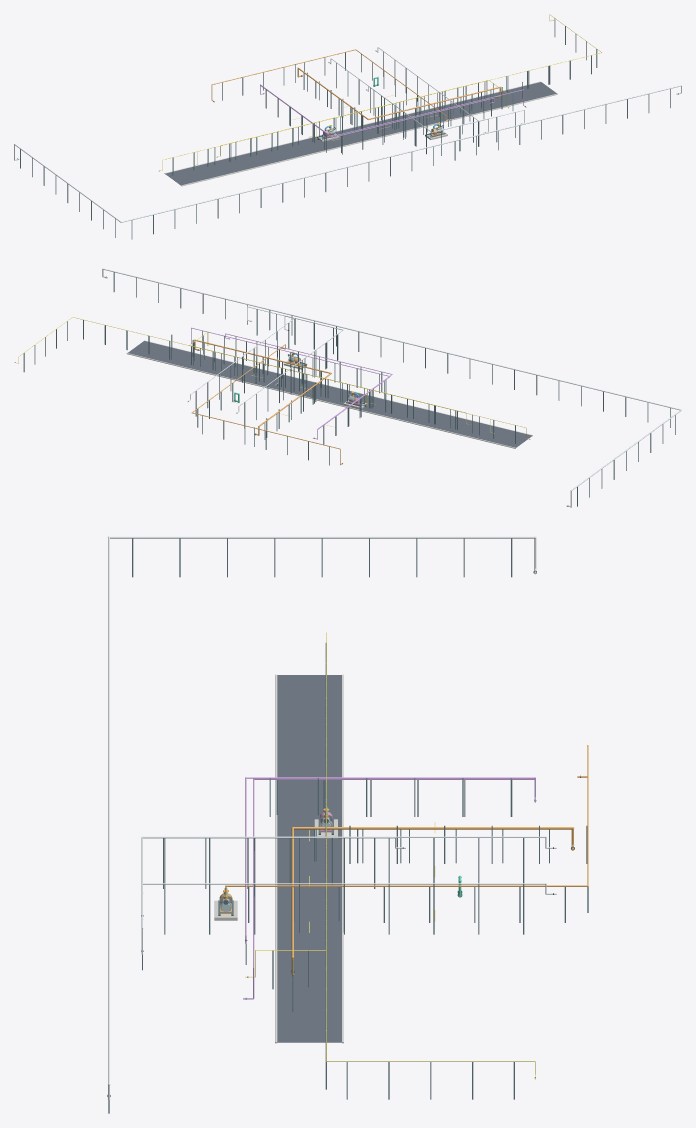
3 renders of one model, top to bottom at view 1: azimuth 30°, elevation 25°; view 2: azimuth 150°, elevation 25°; view 3: azimuth 270°, elevation 25°, orthographic. The views are drawn at different scales.
Parts seen in each view (by area): view 1: render-batch-3, render-batch-4, render-batch-12, render-batch-11, render-batch-13, render-batch-15, render-batch-8; view 2: render-batch-3, render-batch-4, render-batch-12, render-batch-11, render-batch-13, render-batch-15, render-batch-8; view 3: render-batch-3, render-batch-4, render-batch-12, render-batch-13, render-batch-11, render-batch-8.
Boxes of the visible parts, x1,y1,x2,y2 form: render-batch-3: (165,82,556,185); render-batch-4: (17,18,678,239); render-batch-12: (14,47,681,222); render-batch-11: (164,81,557,186); render-batch-13: (211,49,500,120); render-batch-15: (158,14,601,171); render-batch-8: (260,84,526,137); render-batch-3: (128,341,532,447); render-batch-4: (15,272,675,506); render-batch-12: (102,268,681,507); render-batch-11: (126,340,532,448); render-batch-13: (191,339,342,465); render-batch-15: (14,317,530,439); render-batch-8: (191,327,392,439); render-batch-3: (277,675,341,1042); render-batch-4: (107,538,588,1113); render-batch-12: (108,536,556,1100); render-batch-13: (225,745,588,975); render-batch-11: (275,674,343,1043); render-batch-8: (243,777,535,999).
Size of the model in its own units: 155 by 6.86 by 57.62.
